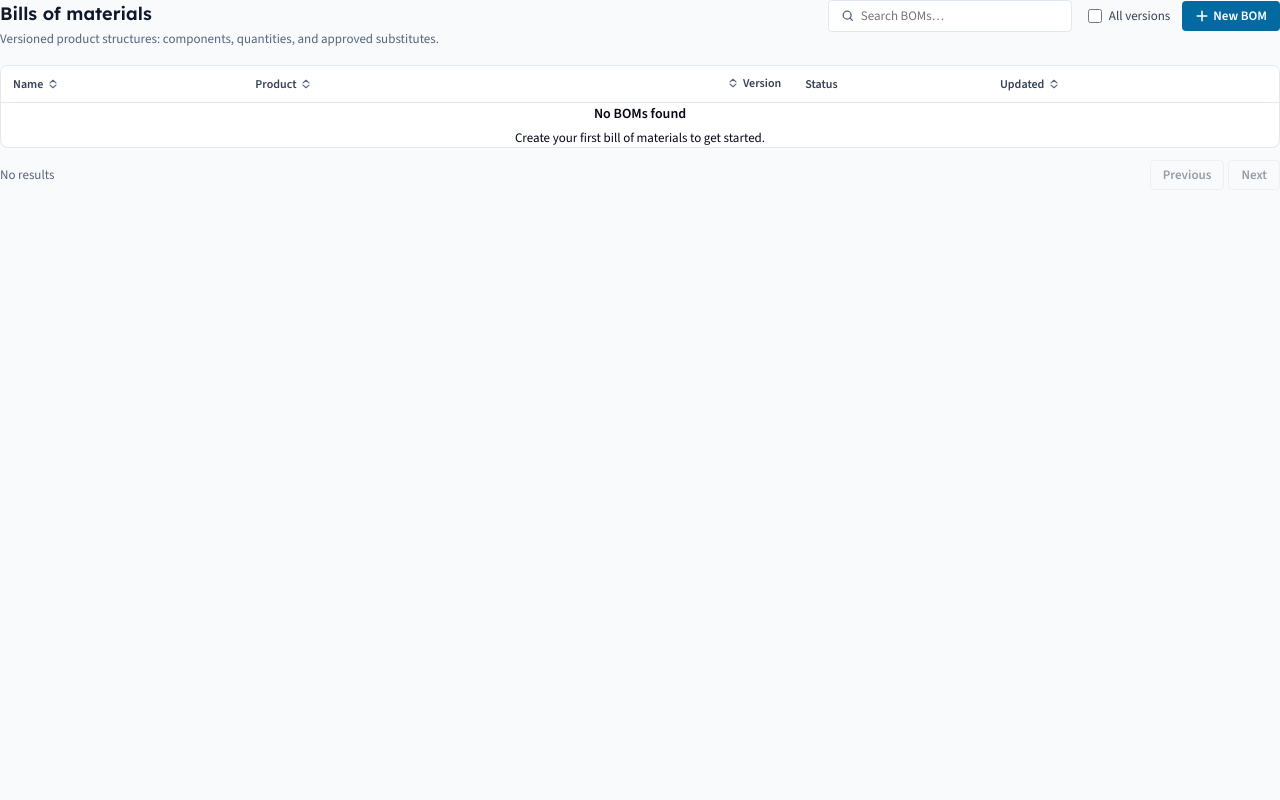
Test case: BomsPage › requires at least one line and validates quantity as a decimal string on the create form
The image size is (1280, 800).
Click the button "New BOM": (1231, 16) x1=1182 y1=1 x2=1279 y2=30
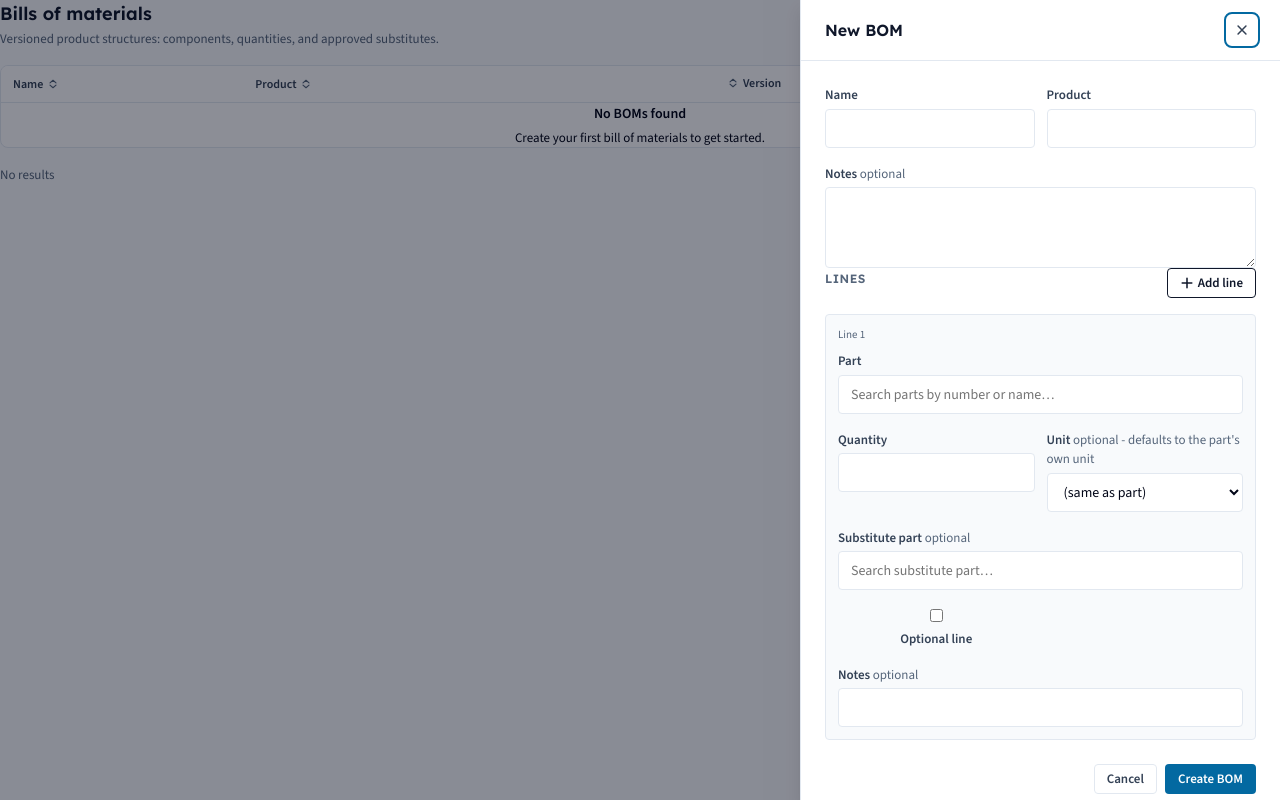
Check: the field labelled "Quantity" is shown, box x1=838 y1=453 x2=1034 y2=492
// Adding a line makes both lines removable.
Click the button "Add line": (1211, 283) x1=1167 y1=268 x2=1256 y2=298
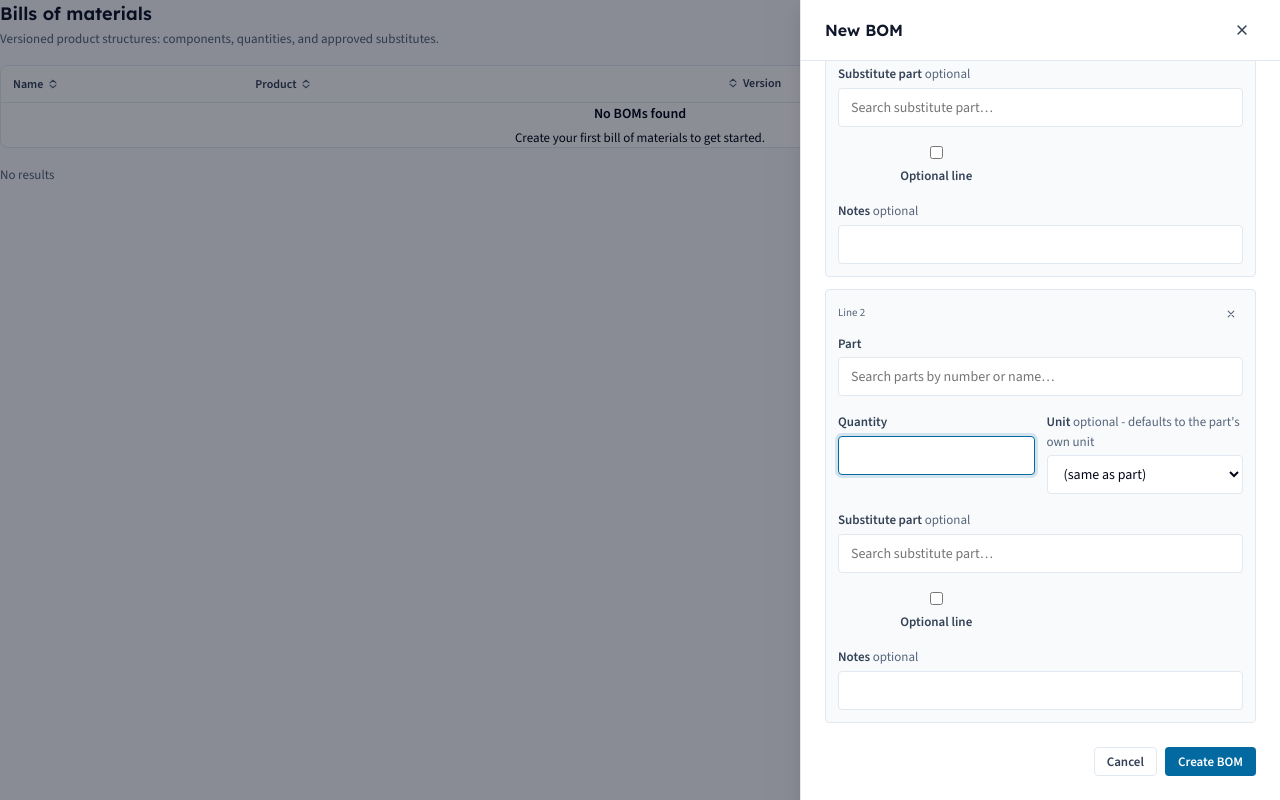
Check: the button named "remove line 2" is shown
// Remove the second line again so only one "Quantity" field remains.
Click the button named "remove line 2": (1231, 314) x1=1219 y1=302 x2=1243 y2=326
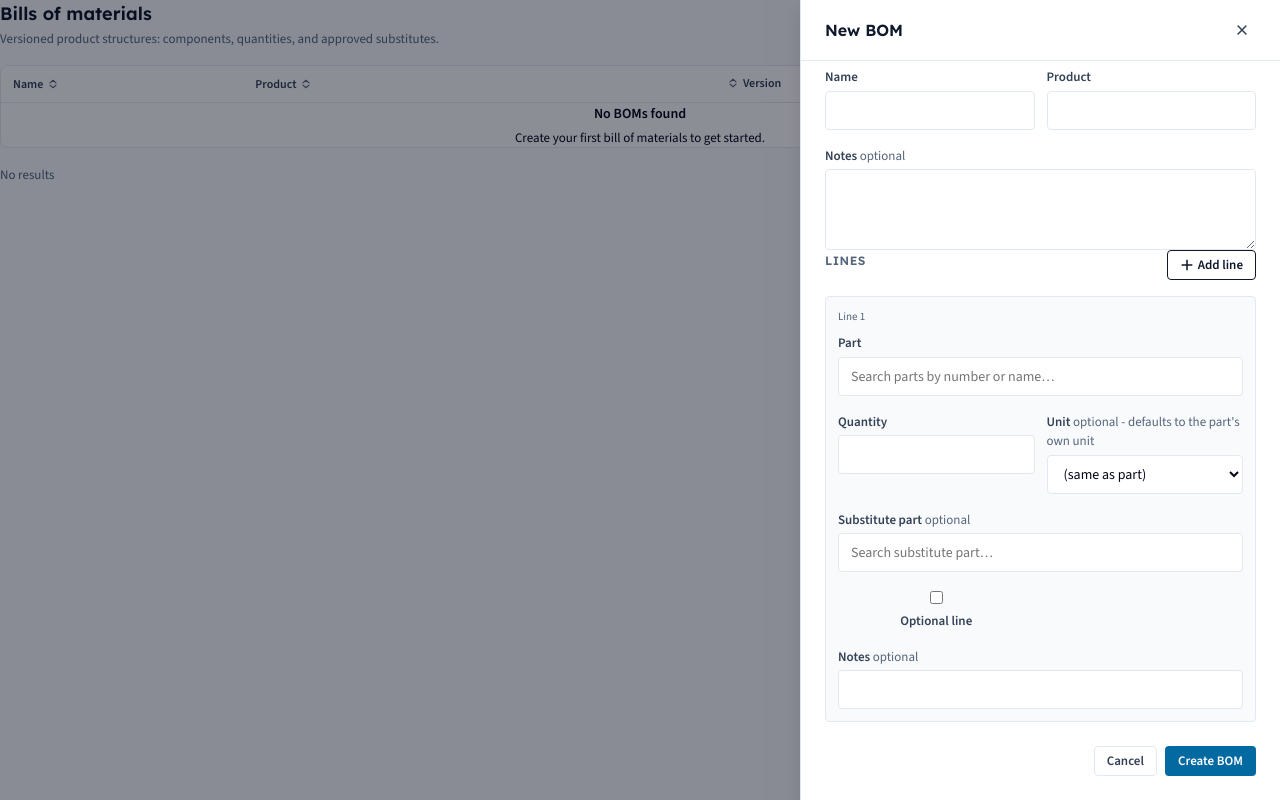
In the field labelled "Name": (930, 110) x1=825 y1=90 x2=1034 y2=130, type "Test BOM"
In the field labelled "Product": (1151, 110) x1=1046 y1=90 x2=1256 y2=130, type "Test Product"
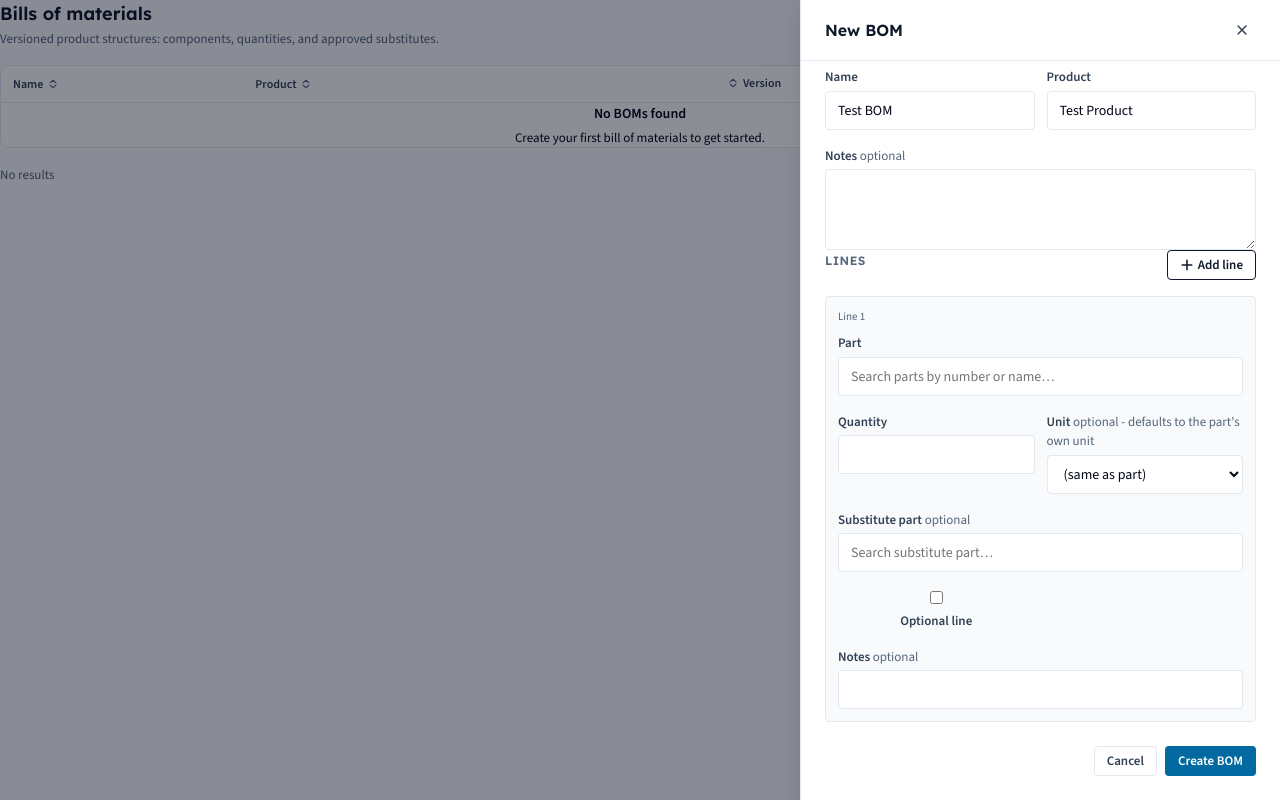
In the field labelled "Quantity": (936, 454) x1=838 y1=435 x2=1034 y2=474, type "not-a-number"
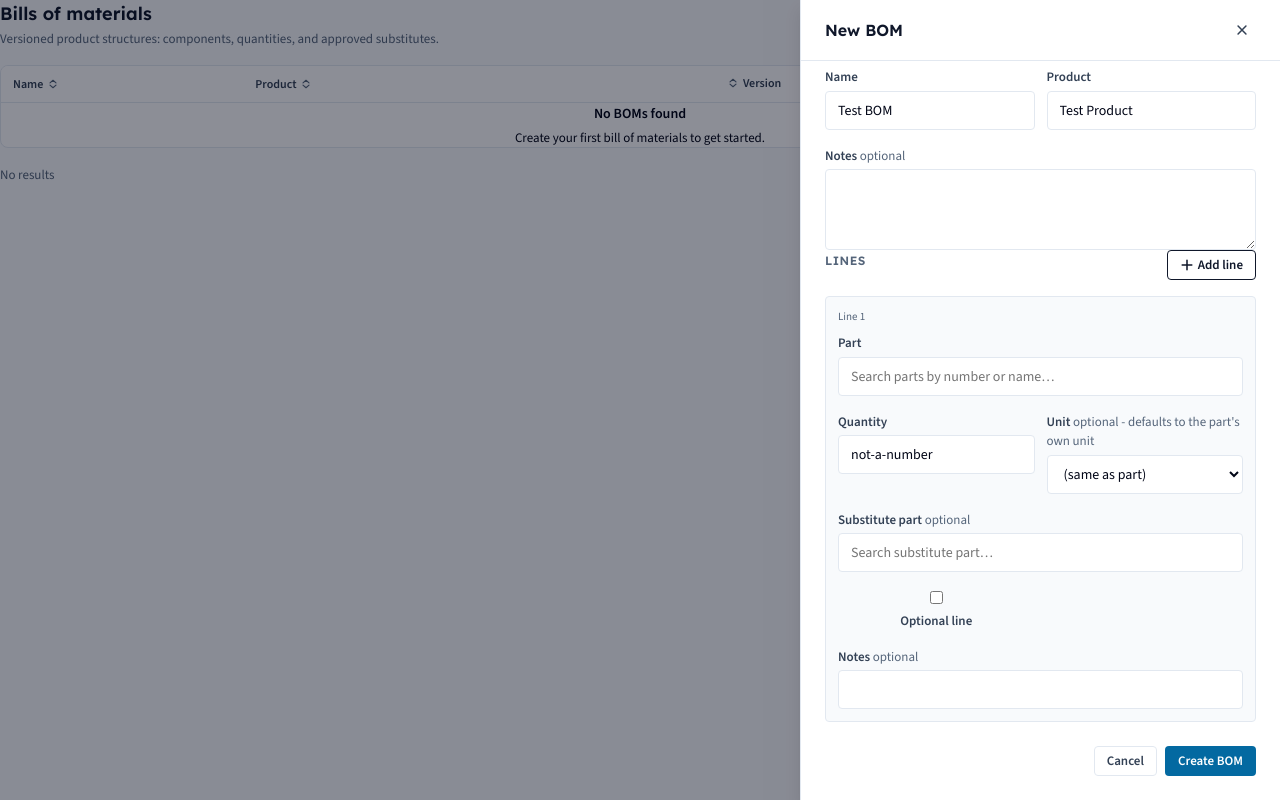
Click the button "Create BOM": (1210, 761) x1=1165 y1=746 x2=1256 y2=776
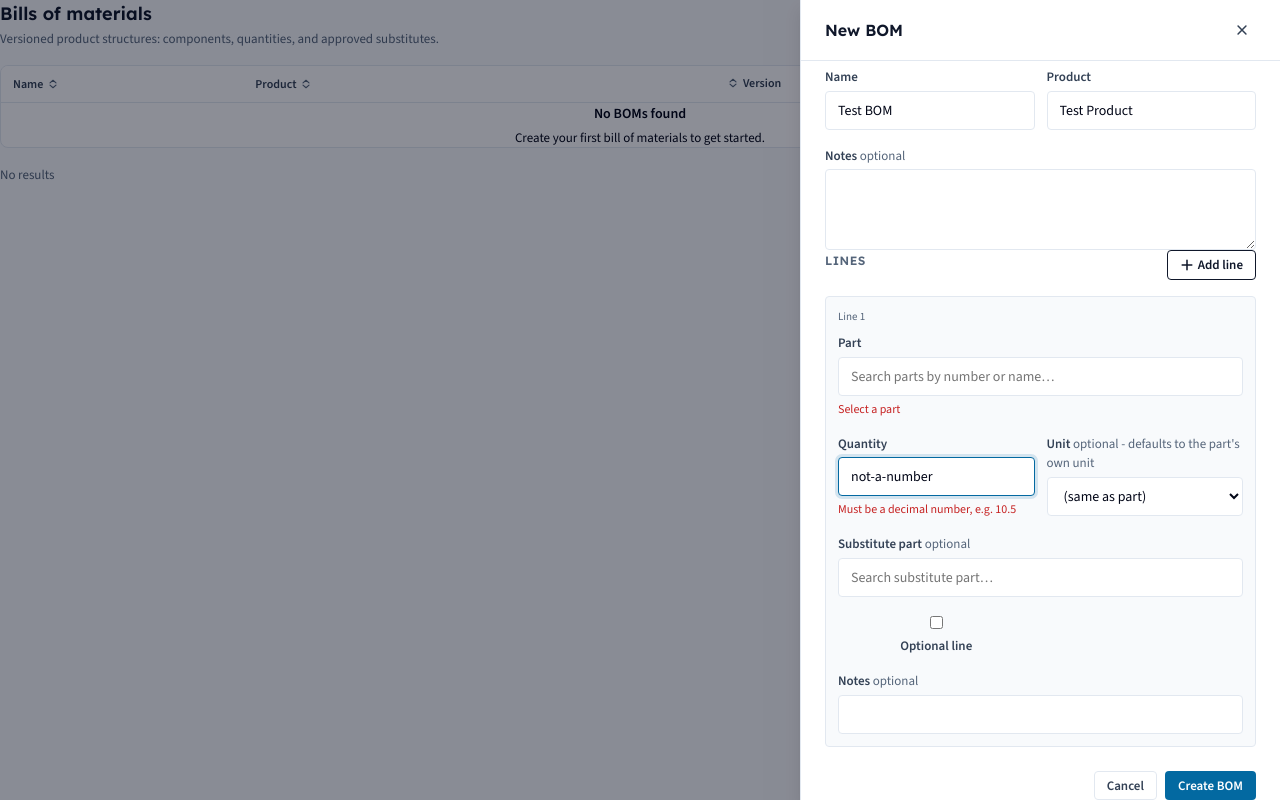
Check: the text "Must be a decimal number, e.g. 10.5" is shown, box x1=838 y1=500 x2=1034 y2=518
